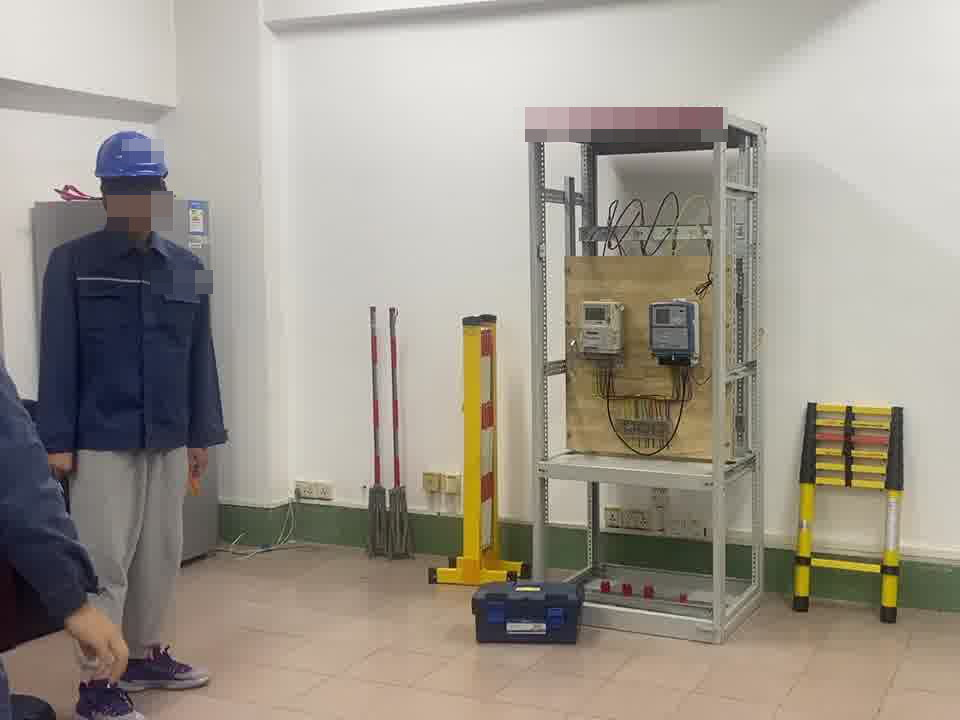downcloth: (78, 446, 190, 649)
halt: (94, 128, 172, 238)
hand: (64, 615, 131, 680), (44, 451, 71, 474), (190, 449, 214, 473)
person: (13, 123, 232, 719)
upsuit: (36, 229, 223, 455)
